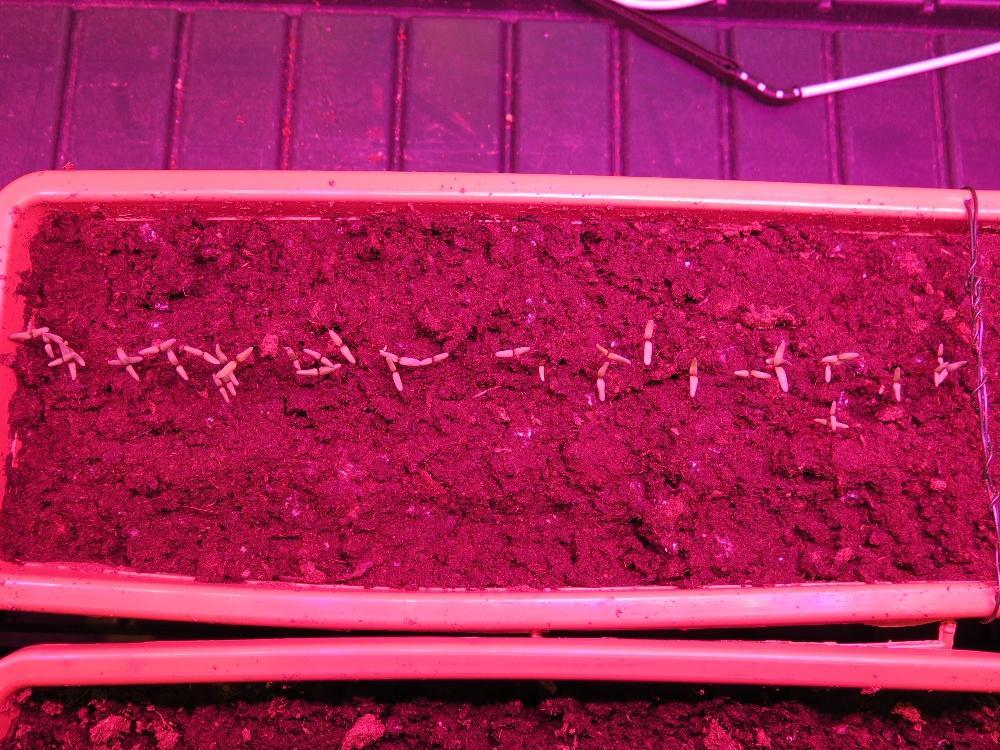crop: (594, 359, 608, 402), (492, 343, 530, 358), (641, 317, 652, 365), (731, 366, 771, 379), (687, 355, 698, 397), (890, 363, 900, 404), (536, 355, 545, 382)
